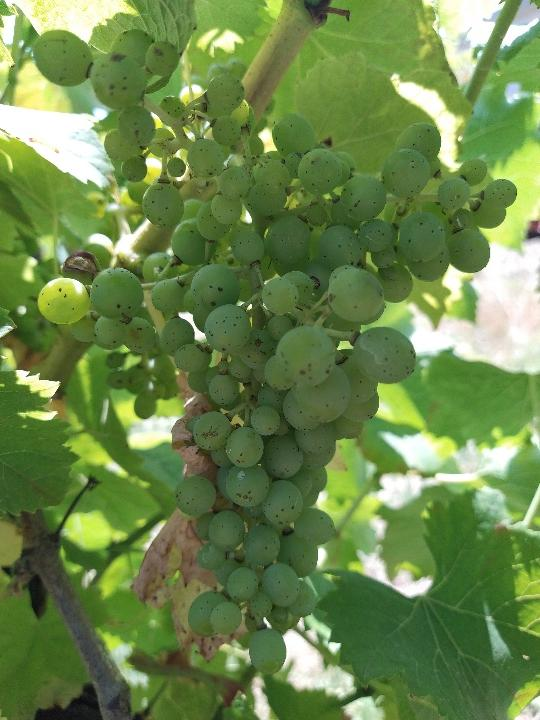grape: (33, 29, 520, 678)
